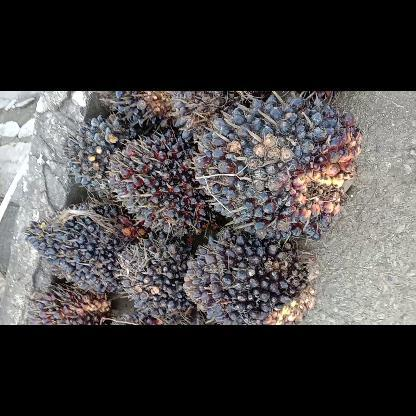TBS mentah: (189, 91, 367, 243), (181, 224, 323, 324), (19, 194, 151, 298), (107, 129, 223, 240), (112, 232, 204, 324), (62, 112, 148, 206)
